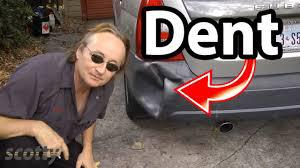rear-bumper-dent: (119, 51, 242, 126)
